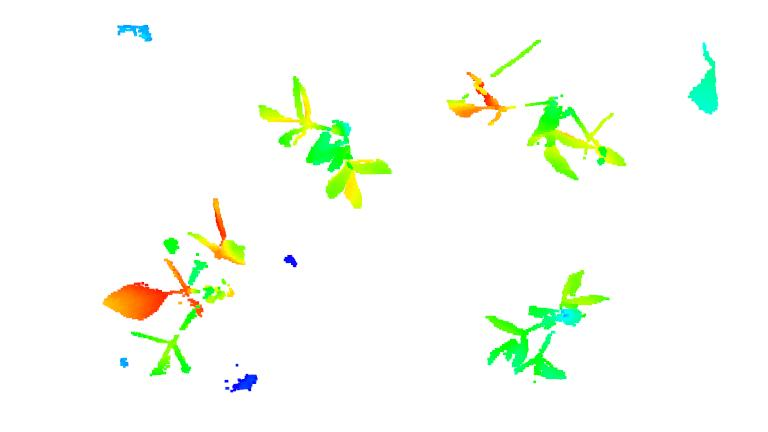mungbean: (97, 197, 246, 377), (255, 72, 394, 216), (455, 72, 635, 172), (484, 267, 611, 380)
